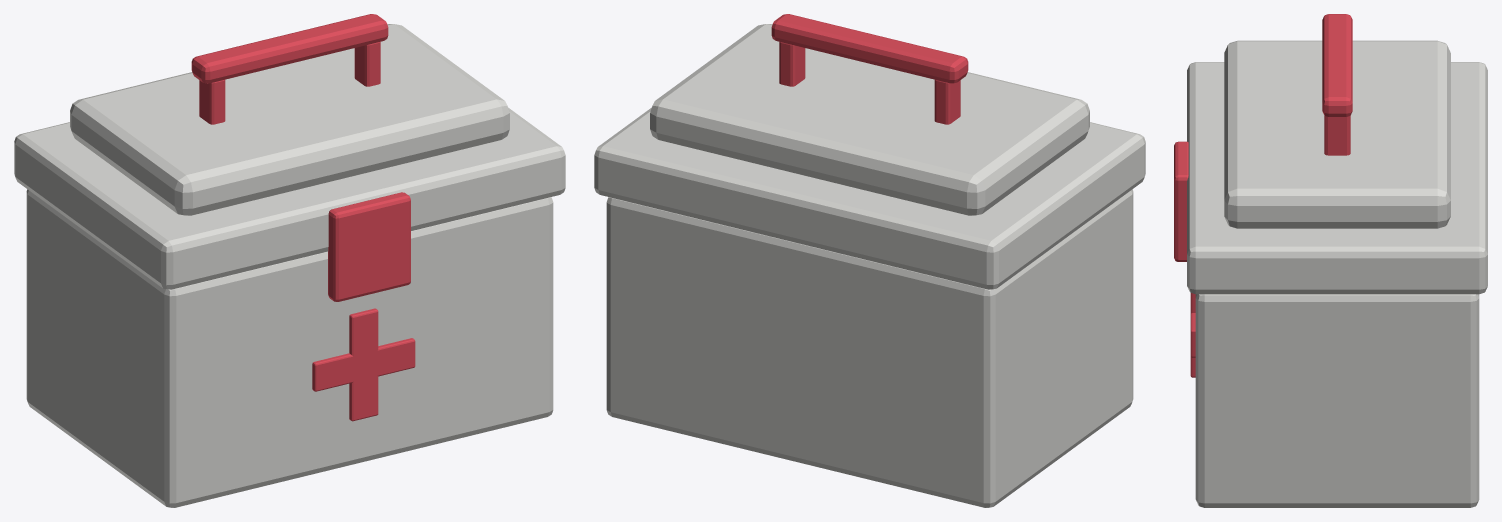
Rendered from Farmaciola.glb.
The picture shows the model from 3 angles, left to right: view 1: azimuth 30°, elevation 25°; view 2: azimuth 150°, elevation 25°; view 3: azimuth 270°, elevation 25°; orthographic projection. The views are drawn at different scales.
Visible parts, largest first — view 1: Cuadrat; view 2: Cuadrat; view 3: Cuadrat.
Part boxes in pixels (box(x1,y1,x2,y2)): Cuadrat: box(14, 14, 565, 507); Cuadrat: box(594, 14, 1145, 507); Cuadrat: box(1174, 14, 1487, 507).
Bounding box in the file's own units: 1.04 × 0.92 × 0.72.
